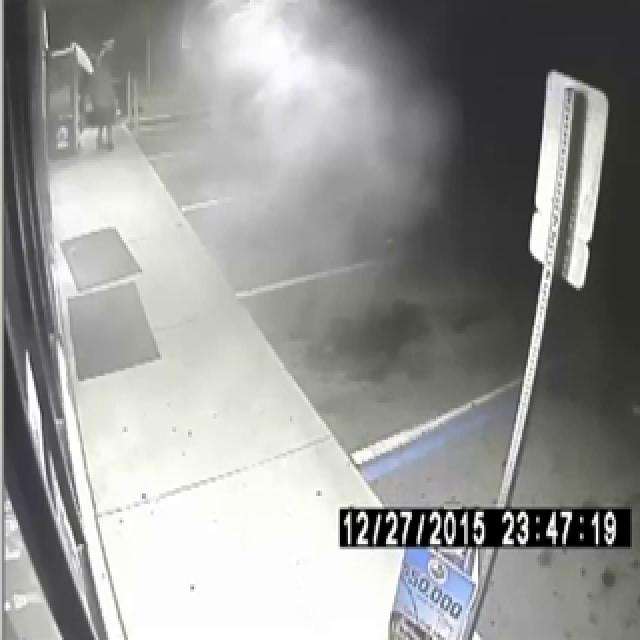vandalism: (57, 20, 401, 482), (331, 156, 537, 299)
